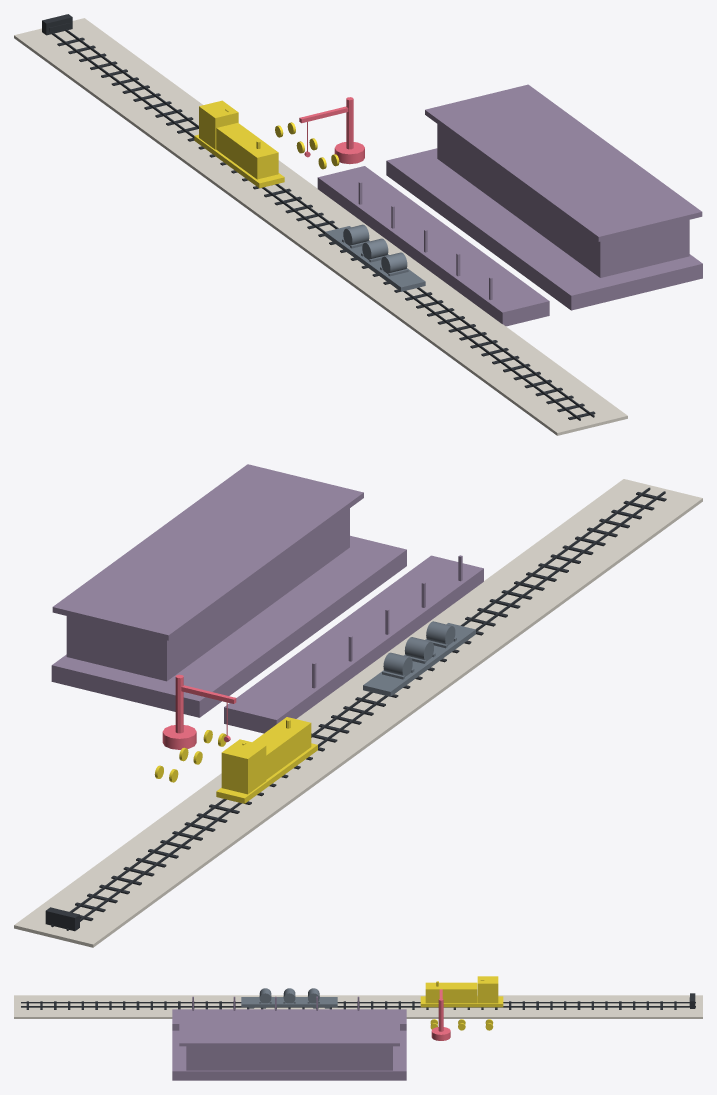
The model's file is hq_railway_l1.glb.
The picture shows the model from 3 angles, top to bottom: view 1: azimuth 30°, elevation 25°; view 2: azimuth 150°, elevation 25°; view 3: azimuth 270°, elevation 25°; orthographic projection. The views are drawn at different scales.
Parts seen in each view (by area): view 1: GEO_Railway_L1_Freight_Shed, GEO_Railway_L1_Track_Ballast, GEO_Railway_L1_Rails_And_Ties, GEO_Railway_L1_Locomotive_Shunter, GEO_Railway_L1_Flatcar_Steel_Coils, GEO_Railway_L1_Derrick_Crane; view 2: GEO_Railway_L1_Freight_Shed, GEO_Railway_L1_Track_Ballast, GEO_Railway_L1_Rails_And_Ties, GEO_Railway_L1_Locomotive_Shunter, GEO_Railway_L1_Flatcar_Steel_Coils, GEO_Railway_L1_Derrick_Crane; view 3: GEO_Railway_L1_Freight_Shed, GEO_Railway_L1_Track_Ballast, GEO_Railway_L1_Rails_And_Ties, GEO_Railway_L1_Locomotive_Shunter, GEO_Railway_L1_Flatcar_Steel_Coils, GEO_Railway_L1_Derrick_Crane.
Part boxes in pixels (box(x1,y1,x2,y2)): GEO_Railway_L1_Freight_Shed: box(317, 84, 702, 326); GEO_Railway_L1_Track_Ballast: box(14, 18, 627, 435); GEO_Railway_L1_Rails_And_Ties: box(42, 14, 595, 420); GEO_Railway_L1_Locomotive_Shunter: box(194, 100, 339, 188); GEO_Railway_L1_Flatcar_Steel_Coils: box(325, 224, 425, 291); GEO_Railway_L1_Derrick_Crane: box(299, 97, 364, 164); GEO_Railway_L1_Freight_Shed: box(51, 464, 483, 733); GEO_Railway_L1_Track_Ballast: box(14, 479, 702, 947); GEO_Railway_L1_Rails_And_Ties: box(45, 487, 666, 931); GEO_Railway_L1_Locomotive_Shunter: box(154, 717, 317, 803); GEO_Railway_L1_Flatcar_Steel_Coils: box(363, 621, 475, 696); GEO_Railway_L1_Derrick_Crane: box(162, 674, 236, 749); GEO_Railway_L1_Freight_Shed: box(172, 996, 406, 1080); GEO_Railway_L1_Track_Ballast: box(14, 995, 702, 1018); GEO_Railway_L1_Rails_And_Ties: box(21, 993, 695, 1009); GEO_Railway_L1_Locomotive_Shunter: box(420, 976, 503, 1030); GEO_Railway_L1_Flatcar_Steel_Coils: box(241, 988, 337, 1008); GEO_Railway_L1_Derrick_Crane: box(431, 989, 450, 1040).
Size of what is drawn, in the model's own units: 29.25 by 6.25 by 100.
